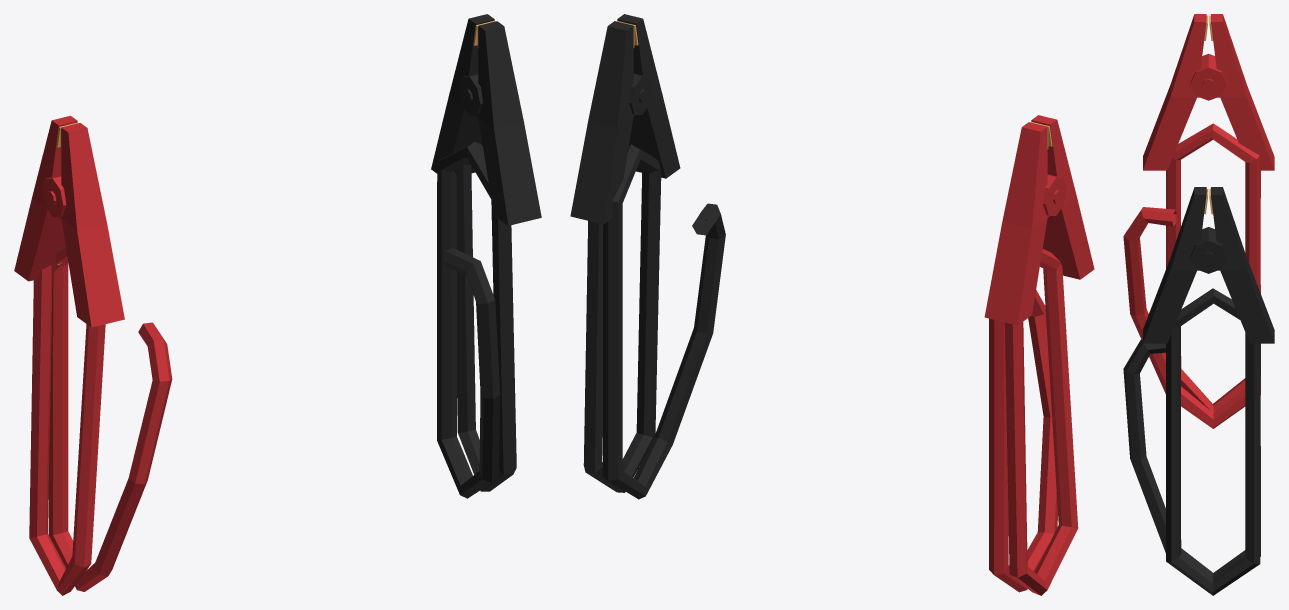
File: Jumpstarter_Cables.fbx
3 renders of one model, left to right at view 1: azimuth 30°, elevation 25°; view 2: azimuth 150°, elevation 25°; view 3: azimuth 270°, elevation 25°, orthographic. The views are drawn at different scales.
Parts seen in each view (by area): view 1: Cables_Wrapped; view 2: Cables_Wrapped; view 3: Cables_Wrapped.
Boxes of the visible parts, box(x1,y1,x2,y2) form: Cables_Wrapped: box(14, 14, 541, 595); Cables_Wrapped: box(570, 14, 1094, 595); Cables_Wrapped: box(1123, 14, 1274, 595).
Size of the model in its own units: 103 by 103 by 34.87.
